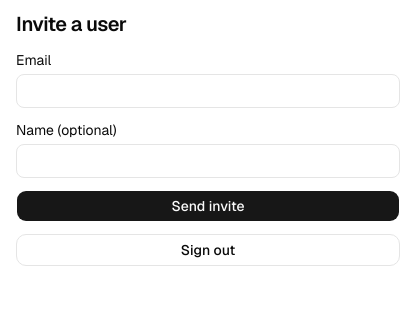
admin invite page › posts the email and name to /api/admin/invite and confirms
The width and height of the screenshot is (417, 315).
Type "new@example.com" into the field labelled "Email".
click(208, 91); type("new@example.com")  # box [16,74,400,108]
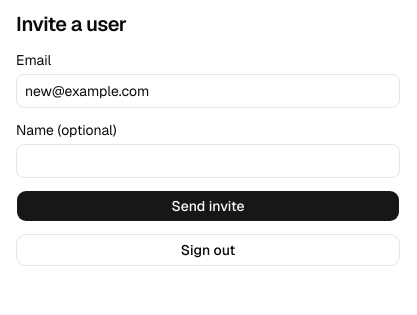
Type "New Person" into the field labelled "Name (optional)".
click(208, 161); type("New Person")  # box [16,144,400,178]
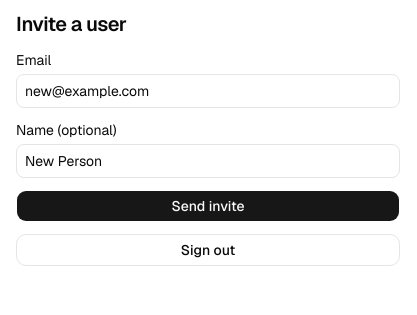
Click the button "Send invite".
click(208, 206)  # box [16,190,400,222]
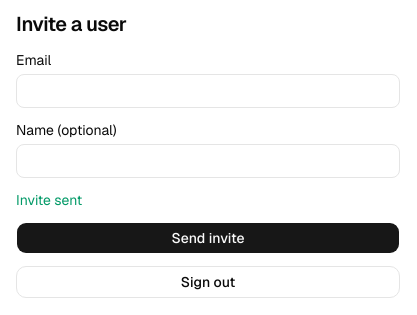
Now the text "Invite sent" is shown, box [16,191,82,209]
